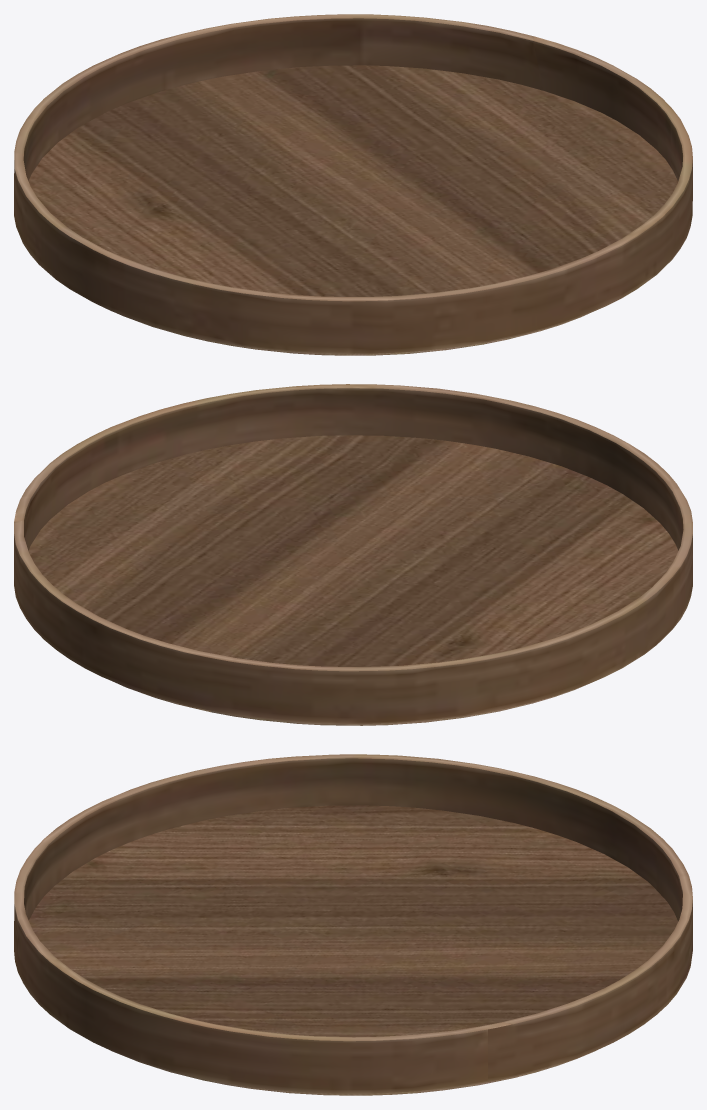
The model's file is LB-TRAY-01.glb.
The picture shows the model from 3 angles, top to bottom: view 1: azimuth 30°, elevation 25°; view 2: azimuth 150°, elevation 25°; view 3: azimuth 270°, elevation 25°; orthographic projection.
Parts seen in each view (by area): view 1: ASY_ART_50504734_S01_NV01; view 2: ASY_ART_50504734_S01_NV01; view 3: ASY_ART_50504734_S01_NV01.
Part boxes in pixels (x1=…): ASY_ART_50504734_S01_NV01: x1=14, y1=14, x2=692, y2=355; ASY_ART_50504734_S01_NV01: x1=14, y1=384, x2=692, y2=725; ASY_ART_50504734_S01_NV01: x1=14, y1=754, x2=692, y2=1095.
Bounding box in the file's own units: 0.42 × 0.04 × 0.42.
Materials: 1 (1 with a texture image).
